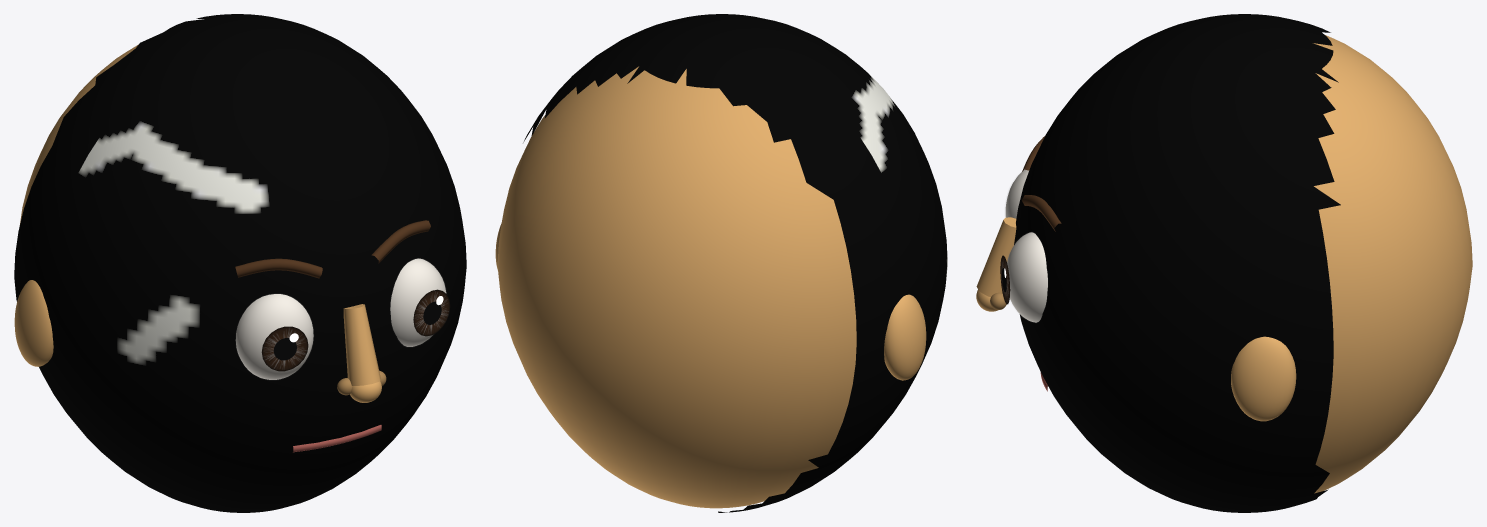
The model's file is 13-bandage.glb.
3 renders of one model, left to right at view 1: azimuth 30°, elevation 25°; view 2: azimuth 150°, elevation 25°; view 3: azimuth 270°, elevation 25°, orthographic.
Size of the model in its own units: 0.3087 by 0.327 by 0.3166.
Materials: 10 (2 with a texture image).
